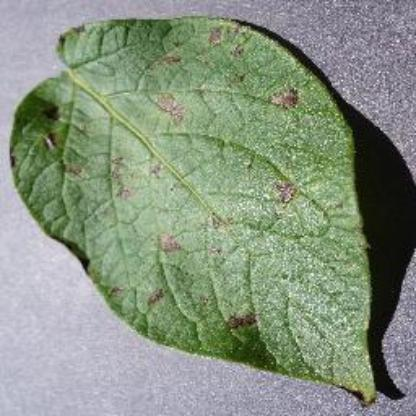Early-Blight: (10, 14, 384, 406)
